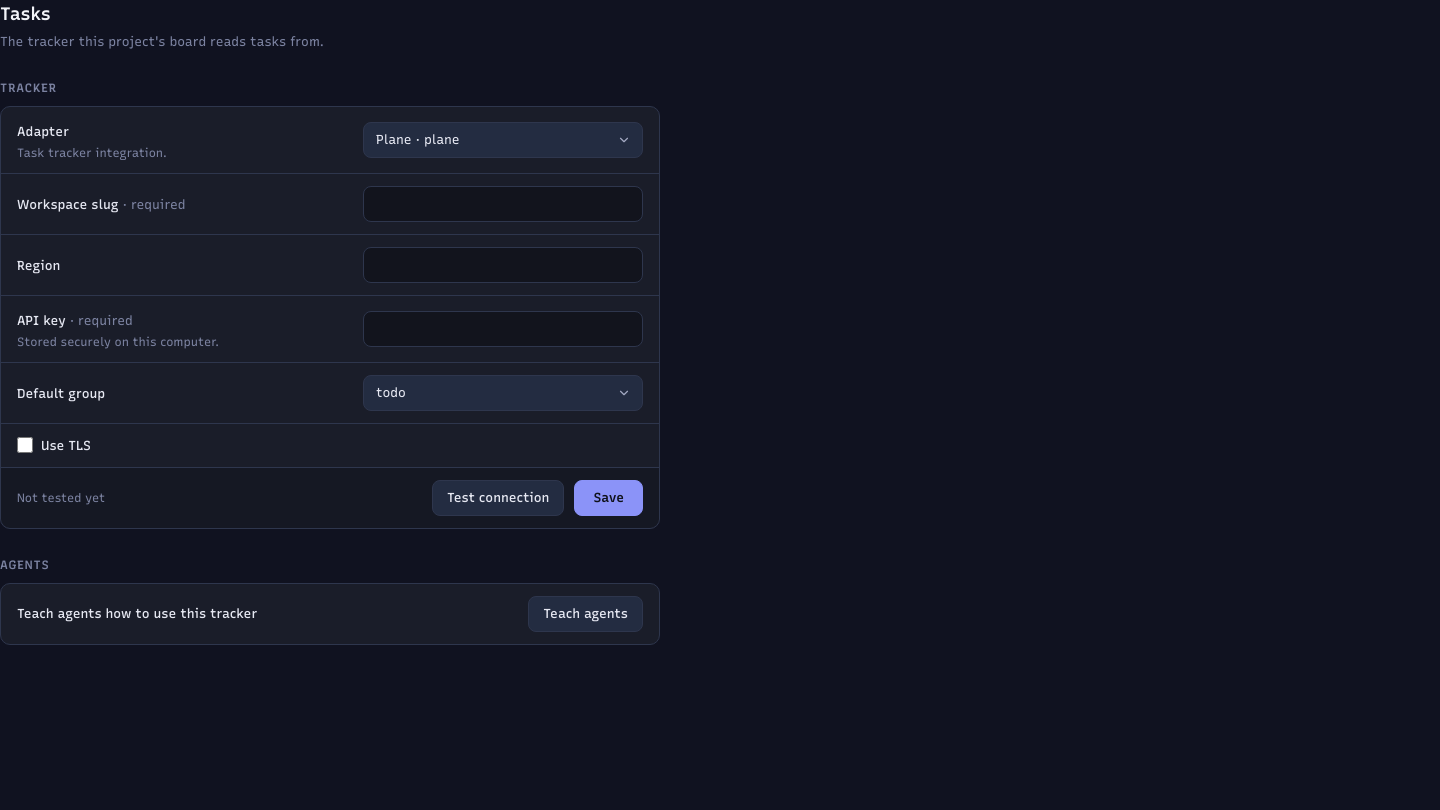
Test: KanbanSettings - Teach agents (project-home spec Behaviour 11, AC8) › names the file and lists the selected profiles; Cancel writes nothing
This screenshot has width=1440, height=810.
Click the button with test id "settings-kanban-teach-agents" at (586, 614), box [528, 596, 643, 632]
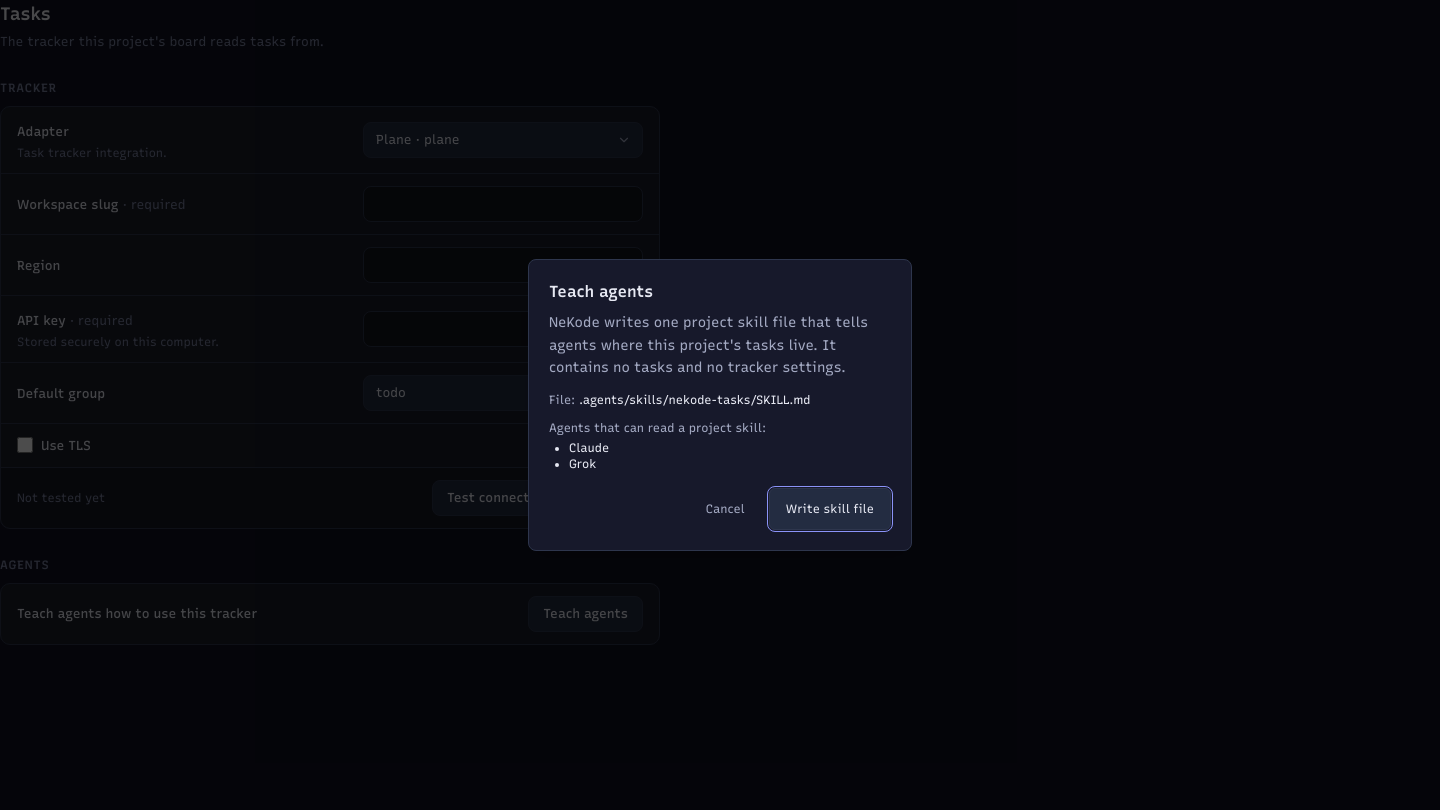
Click the button with test id "confirm-dialog-cancel" at (725, 509), box [690, 488, 761, 530]
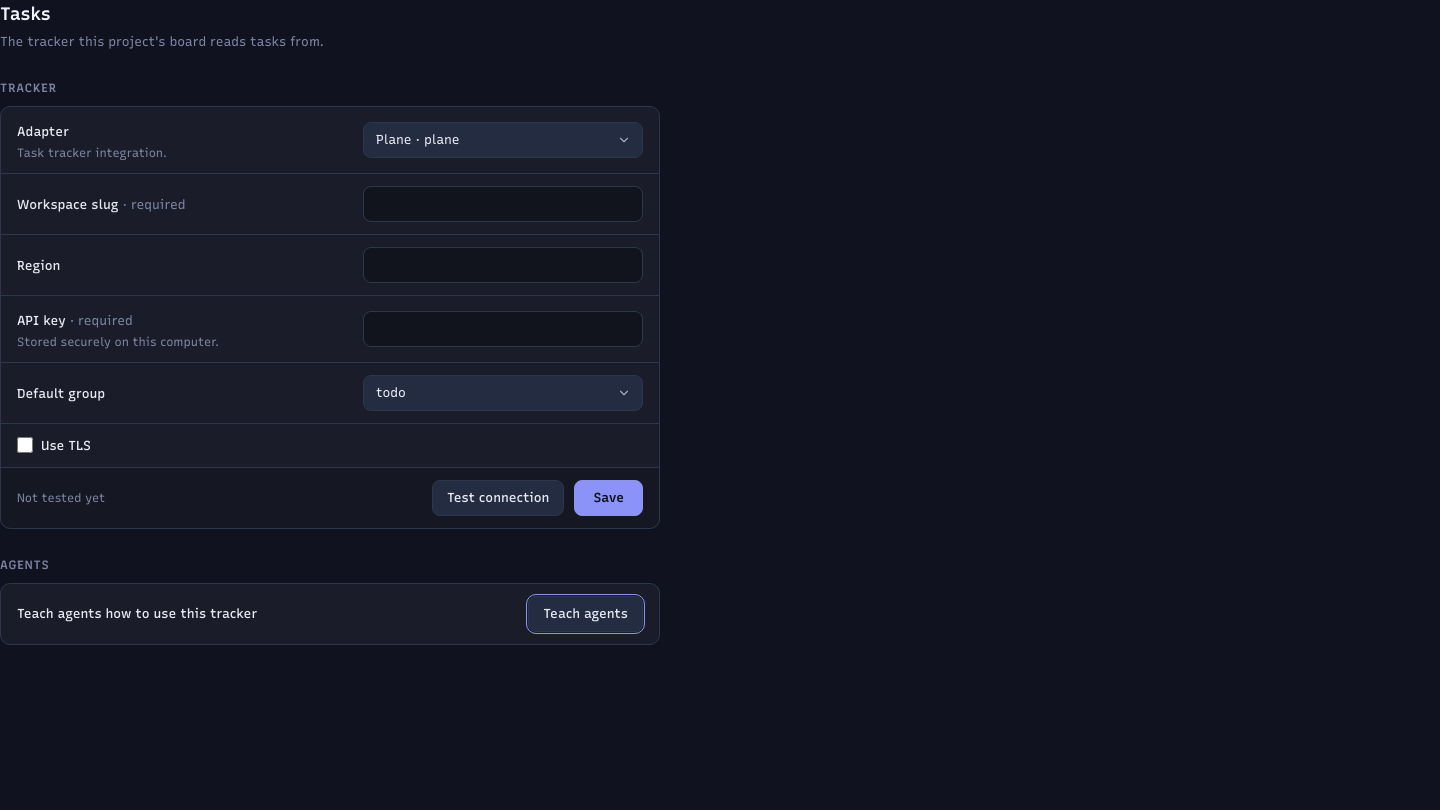
Expected: the dialog with test id "confirm-dialog" is gone
